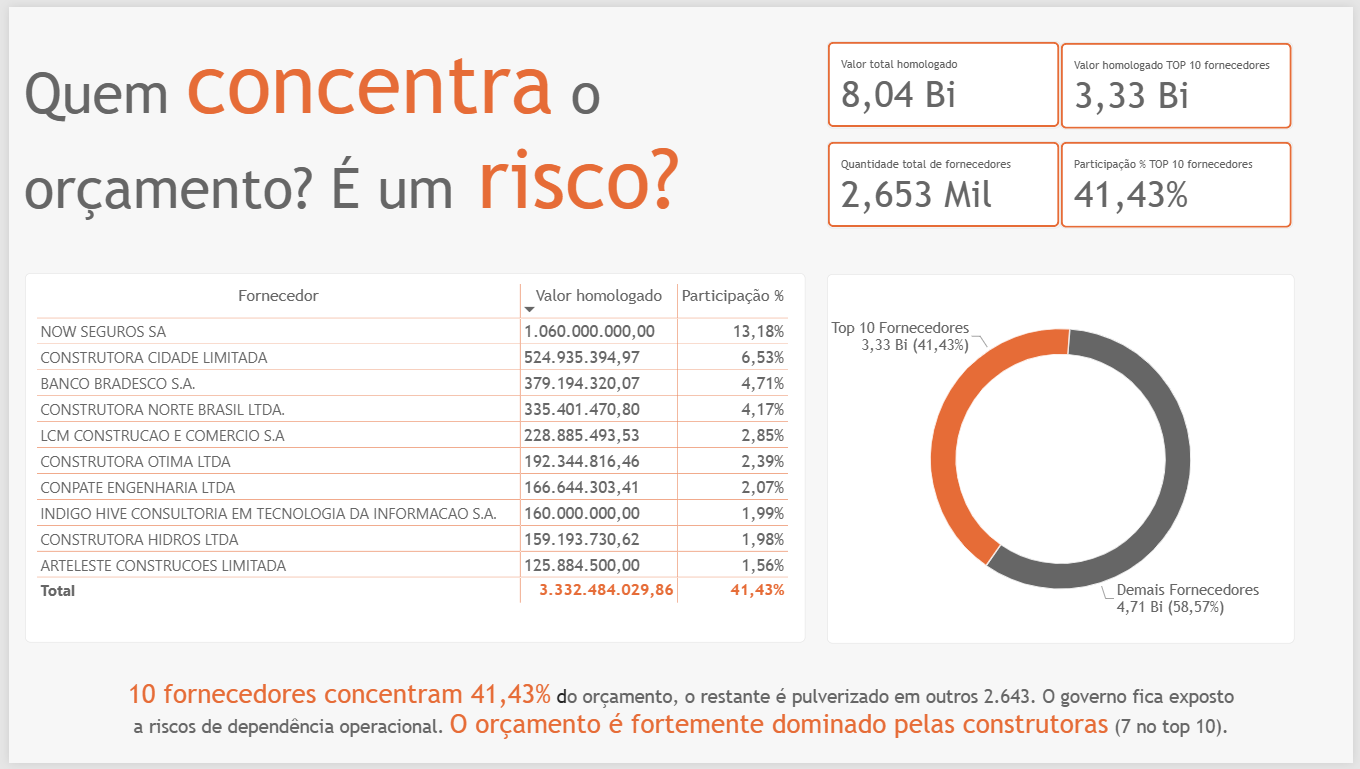

The page's visual inventory and layout, read from the dashboard file:
{"tool":"powerbi","page":{"name":"Fornecedores","canvas":[1920,1080],"ordinal":1},"visuals":[{"type":"textbox","box":[21.9,40.9,984.8,339.9],"z":0},{"type":"pivotTable","fields":{"Rows":["pncp_controladoria dim_fornecedor.nome_fornecedor"],"Values":["_Medidas.volume_homologado","_Medidas.participacao_fornecedor(%)"]},"box":[22.7,380.7,1114.8,527.9],"z":1000},{"type":"cardVisual","title":" Economia","fields":{"Data":["_Medidas.volume_homologado"]},"box":[1168.2,48.6,333.8,124.8],"z":2000},{"type":"cardVisual","title":" Economia","fields":{"Data":["_Medidas.participacao_fornecedor(%)"]},"box":[1501.7,191.7,332.6,125.5],"z":3000},{"type":"cardVisual","title":" Economia","fields":{"Data":["_Medidas.volume_homologado"]},"box":[1501.4,49.3,332.6,125.5],"z":4000},{"type":"textbox","box":[0,957.9,1920,102.2],"z":5000},{"type":"textbox","box":[1770,41,150,340],"z":6000},{"type":"cardVisual","title":" Economia","fields":{"Data":["Count(pncp_controladoria dim_fornecedor.sk_fornecedor)"]},"box":[1168.2,191.2,333.8,124.8],"z":7000},{"type":"donutChart","fields":{"Category":["Legenda_Concentracao.Categoria"],"Y":["_Medidas.Valor_Comparativo_Concentracao"]},"box":[1168.2,380.8,667.5,528.2],"z":8000}]}

Visuals, with their boxes in screenshot pixels (x1, y1, x2, y2), scaled from the page's 1920x1080 canvas onto the 1360x769 screenshot:
textbox: <bbox>16, 29, 713, 271</bbox>
pivotTable - pncp_controladoria dim_fornecedor.nome_fornecedor x _Medidas.volume_homologado: <bbox>16, 271, 806, 647</bbox>
" Economia" cardVisual: <bbox>827, 35, 1064, 123</bbox>
" Economia" cardVisual: <bbox>1064, 136, 1299, 226</bbox>
" Economia" cardVisual: <bbox>1063, 35, 1299, 124</bbox>
textbox: <bbox>0, 682, 1359, 755</bbox>
textbox: <bbox>1254, 29, 1359, 271</bbox>
" Economia" cardVisual: <bbox>827, 136, 1064, 225</bbox>
donutChart - Legenda_Concentracao.Categoria x _Medidas.Valor_Comparativo_Concentracao: <bbox>827, 271, 1300, 647</bbox>
